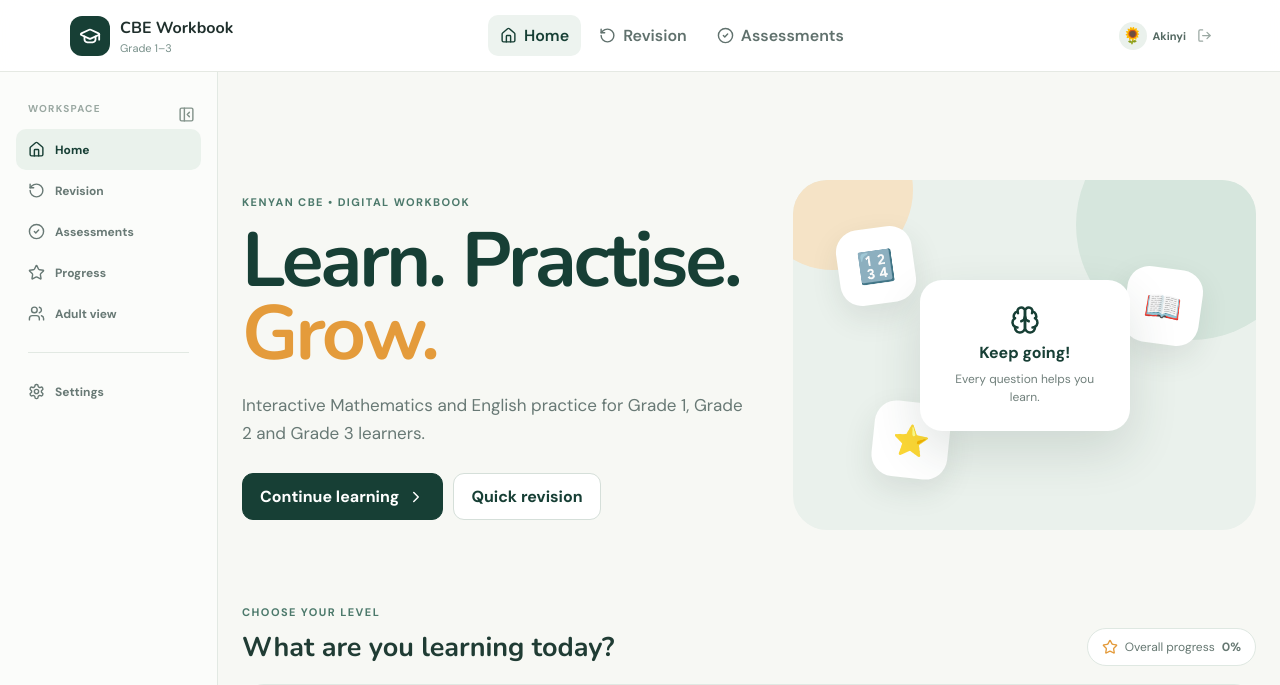
Scenario: workbook improvements › makes Progress and Adult View reachable from the workspace navigation
This screenshot has width=1280, height=685.
Click the button titled "Progress" at (108, 272), box 16,252 -> 201,293
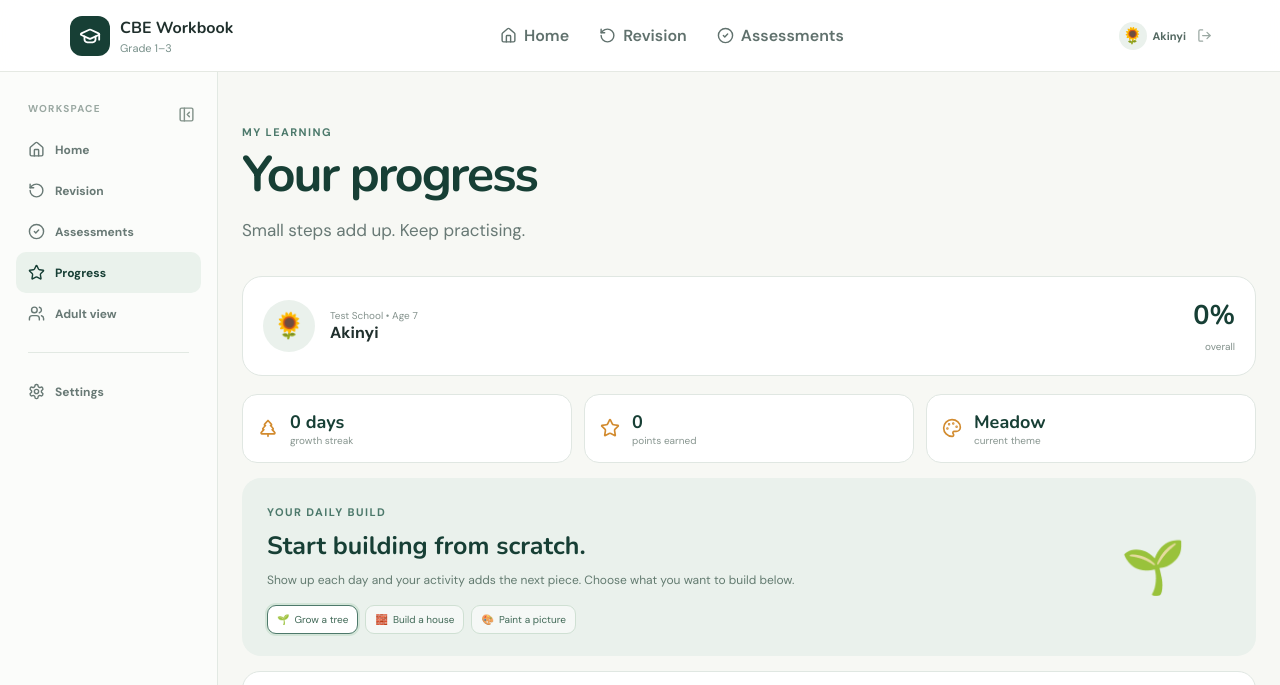
Expected: the heading "Your progress" is shown, 242,140 -> 537,209
Click the button titled "Adult view" at (108, 314), box 16,293 -> 201,334
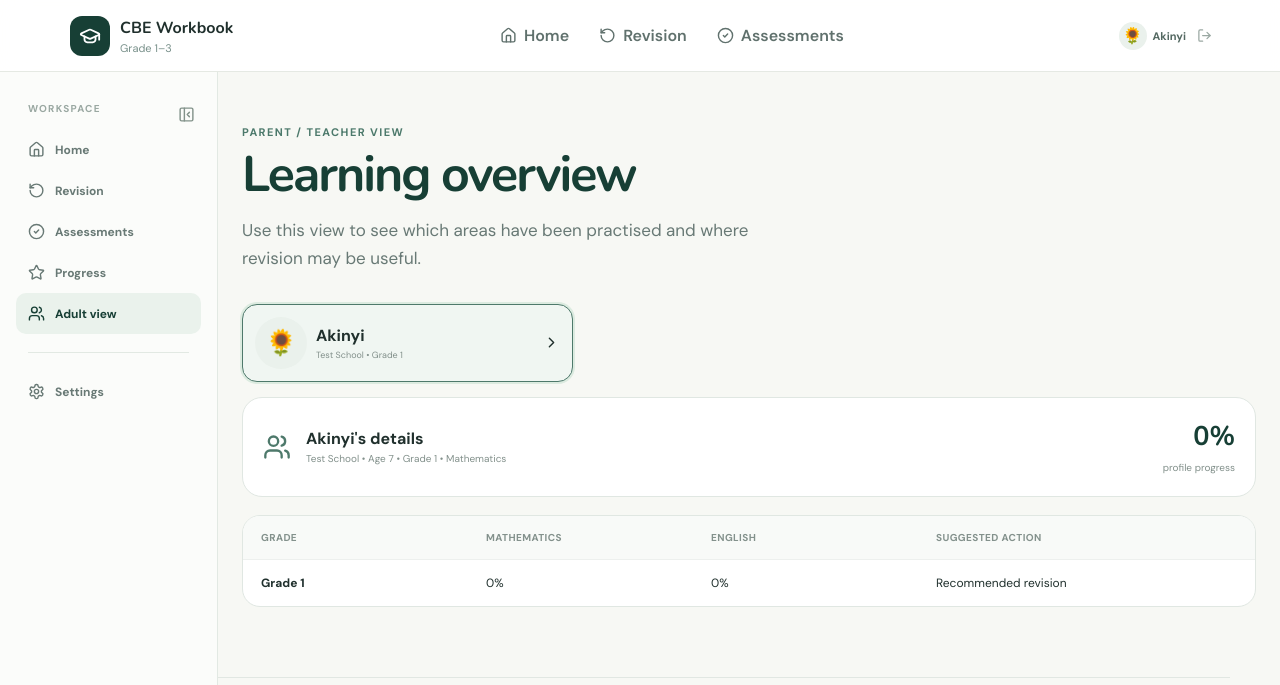
Expected: the heading "Learning overview" is shown, 242,140 -> 636,209
